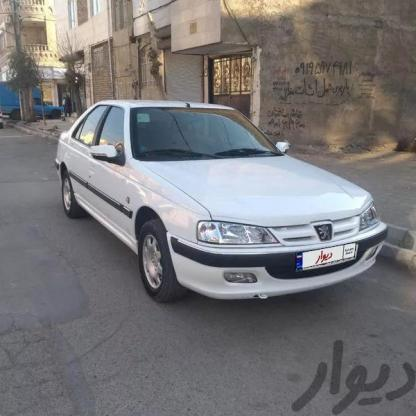Car: (29, 90, 388, 314), (2, 79, 64, 133)
